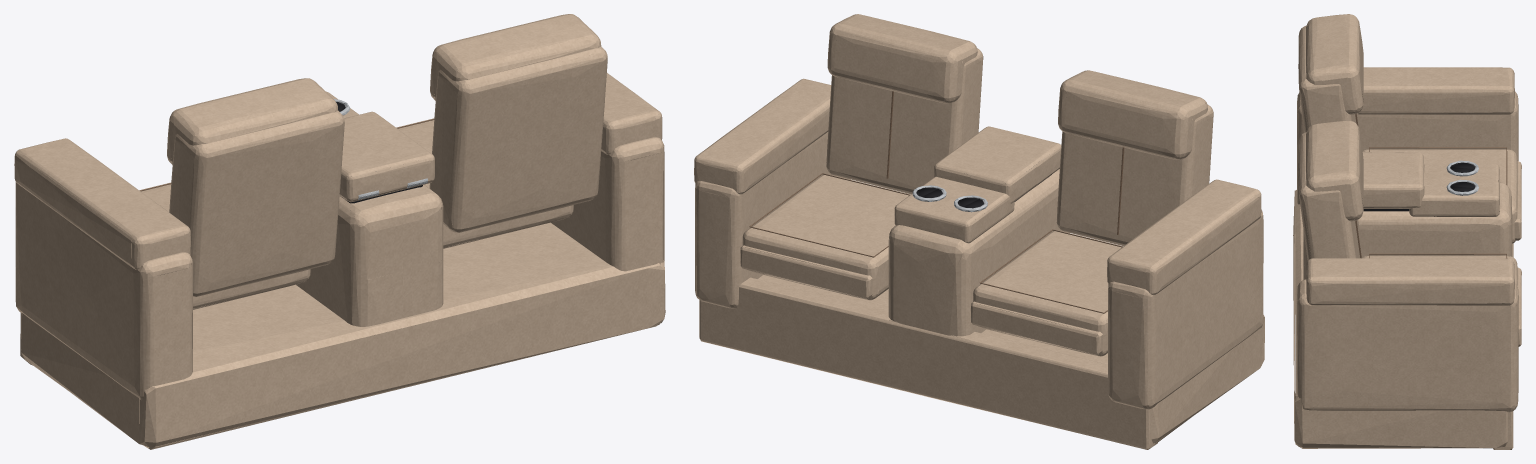
The model's file is drake-2-seater-console.glb.
3 views of the same model, side by side, from view 1: azimuth 30°, elevation 25°; view 2: azimuth 150°, elevation 25°; view 3: azimuth 270°, elevation 25° (orthographic). The views are drawn at different scales.
Visible parts, largest first — view 1: 2S_Frame, 2S_Back_1, 2S_Back_2, 2S_Arm_R, Console_Body, 2S_Arm_R_TopPad, 2S_Arm_L, 2S_Back_1_Headrest, 2S_Back_2_Headrest, Console_Lid_ANIMATABLE, 2S_Arm_L_TopPad, 2S_Seat_1 (+1 smaller); view 2: 2S_FrontApron, 2S_Arm_R, 2S_Back_1, Console_Body, 2S_Back_2, 2S_Seat_1, 2S_Seat_2, 2S_Back_2_Headrest, 2S_Back_1_Headrest, 2S_Arm_L, 2S_Arm_R_TopPad, 2S_Arm_L_TopPad (+5 smaller); view 3: 2S_Arm_L, 2S_Arm_L_TopPad, 2S_Frame, 2S_Arm_R_TopPad, Console_Body, 2S_Arm_R, 2S_Back_1_Headrest, 2S_Back_2_Headrest, 2S_Back_1, Console_Deck, Console_Lid_ANIMATABLE, 2S_Back_2 (+9 smaller).
Part boxes in pixels (x1,y1,x2,y2): 2S_Frame: (21, 222, 665, 449); 2S_Back_1: (429, 46, 607, 232); 2S_Back_2: (169, 110, 344, 296); 2S_Arm_R: (15, 182, 192, 400); Console_Body: (296, 184, 443, 326); 2S_Arm_R_TopPad: (14, 138, 190, 269); 2S_Arm_L: (551, 137, 664, 271); 2S_Back_1_Headrest: (430, 14, 601, 100); 2S_Back_2_Headrest: (167, 78, 337, 164); Console_Lid_ANIMATABLE: (339, 111, 434, 202); 2S_Arm_L_TopPad: (601, 73, 662, 154); 2S_Seat_1: (396, 118, 573, 248); 2S_FrontApron: (699, 277, 1158, 449); 2S_Arm_R: (1108, 210, 1263, 409); 2S_Back_1: (826, 35, 983, 194); Console_Body: (888, 169, 1069, 339); 2S_Back_2: (1056, 92, 1213, 245); 2S_Seat_1: (742, 174, 910, 300); 2S_Seat_2: (973, 230, 1122, 356); 2S_Back_2_Headrest: (1058, 70, 1207, 159); 2S_Back_1_Headrest: (827, 14, 977, 103); 2S_Arm_L: (695, 132, 850, 308); 2S_Arm_R_TopPad: (1107, 179, 1261, 295); 2S_Arm_L_TopPad: (694, 78, 831, 194); 2S_Arm_L: (1297, 279, 1518, 412); 2S_Arm_L_TopPad: (1306, 258, 1514, 305); 2S_Frame: (1293, 190, 1507, 448); 2S_Arm_R_TopPad: (1358, 67, 1514, 114); Console_Body: (1303, 182, 1512, 279); 2S_Arm_R: (1297, 91, 1518, 204); 2S_Back_1_Headrest: (1306, 120, 1363, 221); 2S_Back_2_Headrest: (1306, 14, 1363, 114); 2S_Back_1: (1298, 132, 1362, 260); Console_Deck: (1409, 163, 1499, 216); Console_Lid_ANIMATABLE: (1362, 152, 1424, 208); 2S_Back_2: (1298, 26, 1362, 149).
Bounding box in the file's own units: 1.84 × 1.02 × 0.8304.
4 materials, 1 textured.
